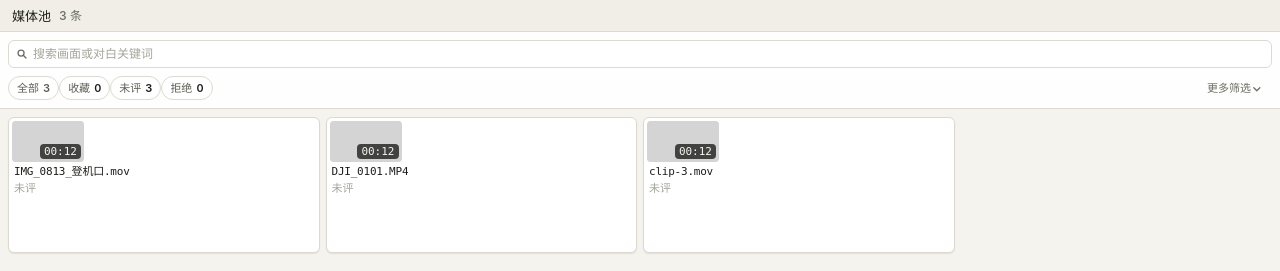
Test: 媒体池 —— 搜索并入文件名(U-15) › 后端 0 命中时按文件名子串匹配;输入清空即自动复原
This screenshot has width=1280, height=271.
expect the cell "00:12 IMG_0813_登机口.mov 未评" is shown: met, box [8,117,320,253]
Type "登机" into the search field labelled "搜索画面或对白关键词" at (640, 54), box [8,40,1272,68]
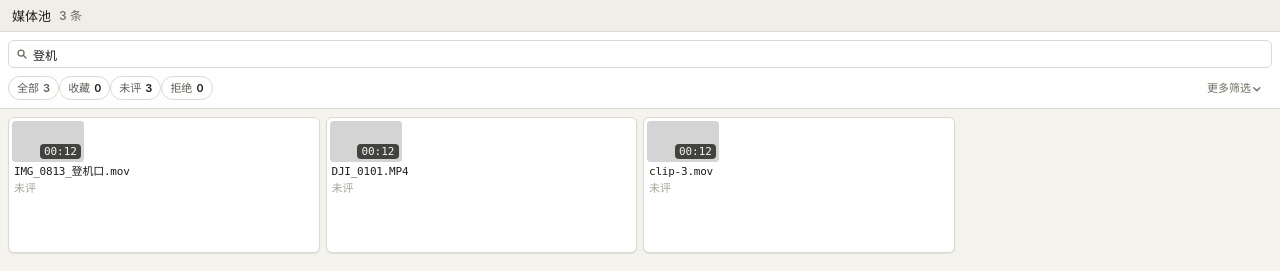
Press Enter in the search field named "搜索画面或对白关键词", box [8,40,1272,68]
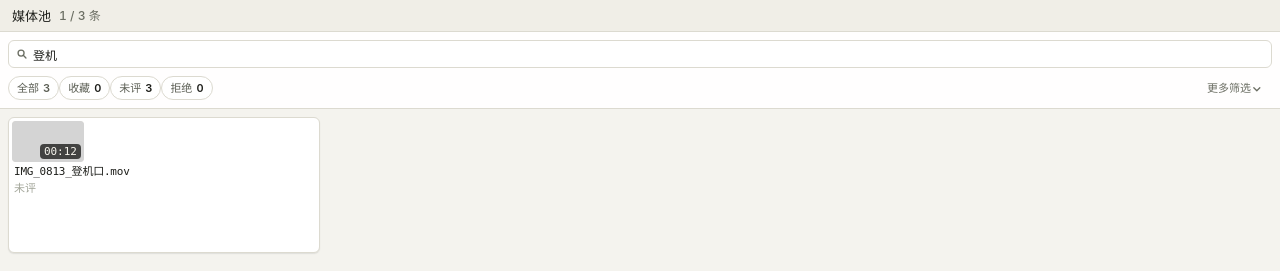
expect the number of cells is 1: met, box [8,117,320,253]
#  大小写不敏感。
Replace the text in the search field named "搜索画面或对白关键词" with "dji" at (640, 54), box [8,40,1272,68]
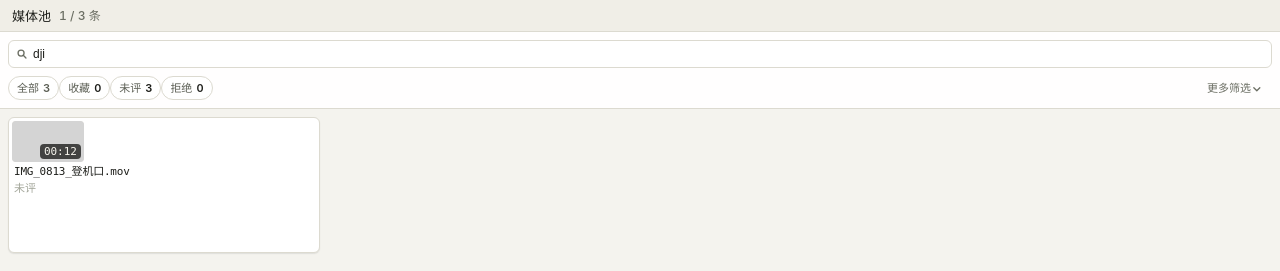
Press Enter in the search field named "搜索画面或对白关键词", box [8,40,1272,68]
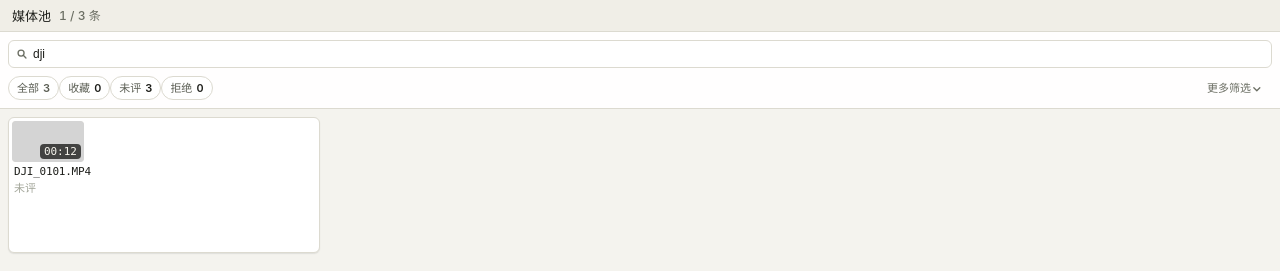
expect the number of cells is 1: met, box [8,117,320,253]
# 清空输入,不点「搜索」也复原。
Clear the search field named "搜索画面或对白关键词" at (640, 54), box [8,40,1272,68]
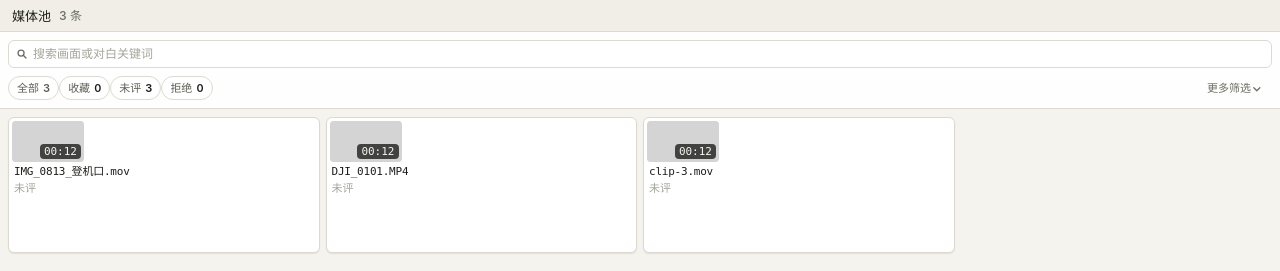
expect the number of cells is 3: met, box [8,117,320,253]; [326,117,637,253]; [643,117,954,253]
